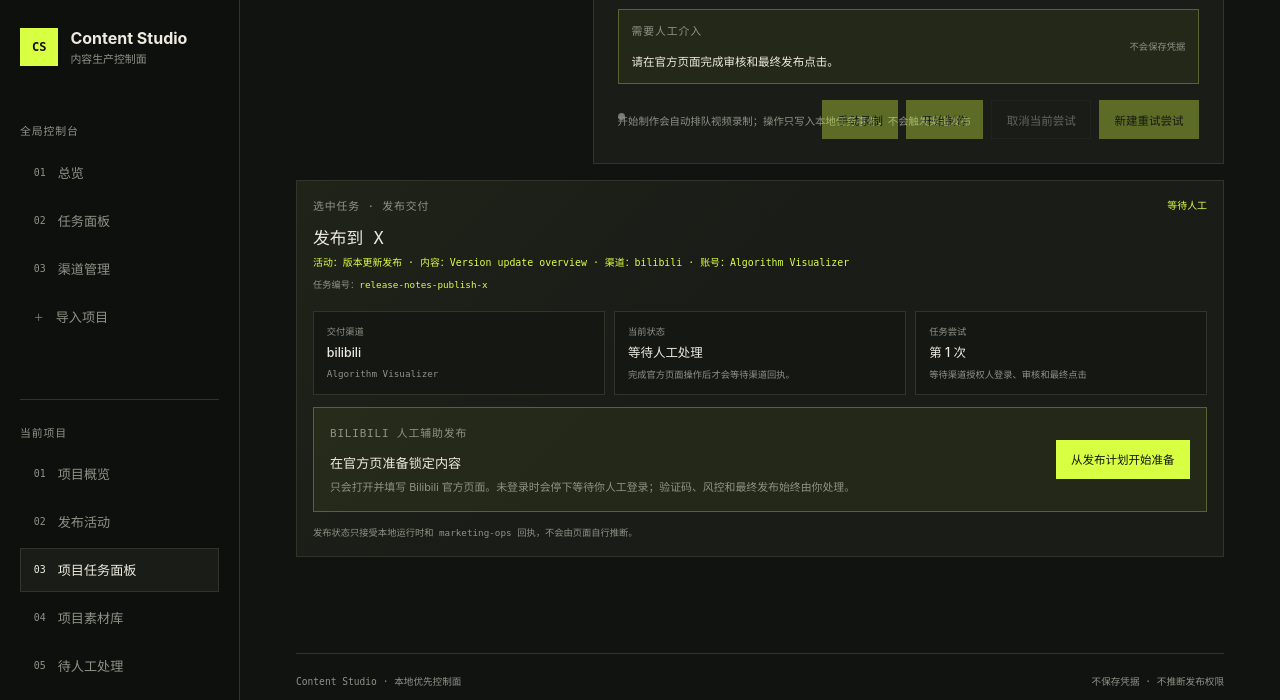
content studio workbench › 从发布任务把明确的 Bilibili 准备点击交给本地运行时
(page scrolled)
Step 1. Click the button with test id "publication-prepare-managed" → (1123,459), box [1056,440,1190,479]
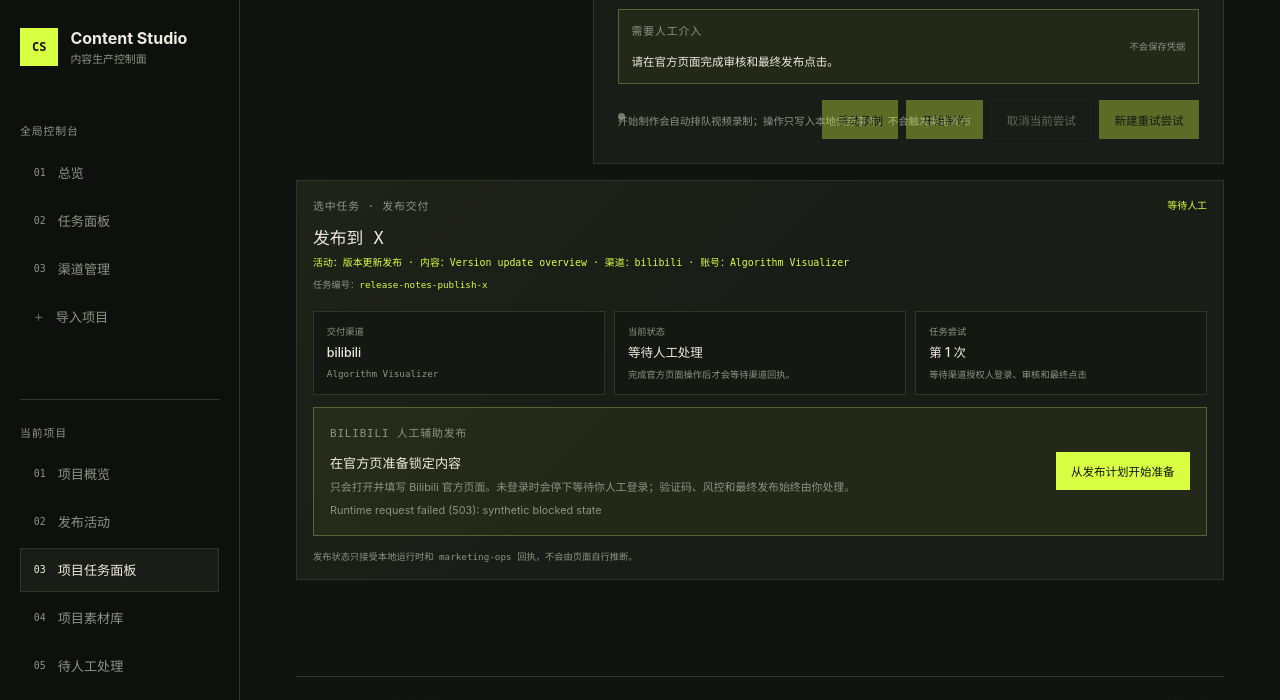
expect the message "Runtime request failed (503): synthetic blocked state" is shown: met, box [330,503,602,517]
